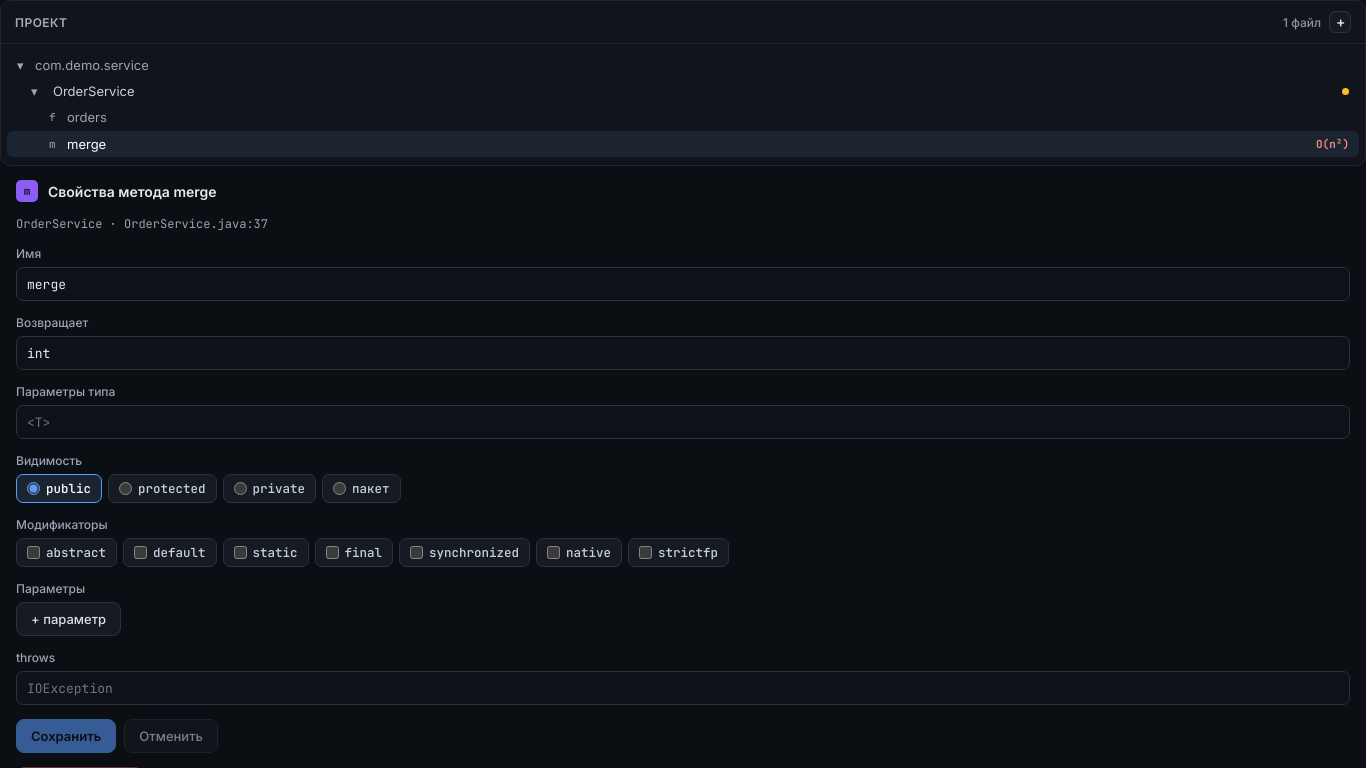
Test: формы структуры (FE-10) › 422 PARSE_ERROR — ошибка со строкой в форме, версия не меняется
This screenshot has width=1366, height=768.
Expected: the list with test id "project-tree" is shown, x1=7 y1=52 x2=1359 y2=157
Replace the text in the field labelled "Возвращает" with "long": (683, 353) x1=16 y1=336 x2=1350 y2=370
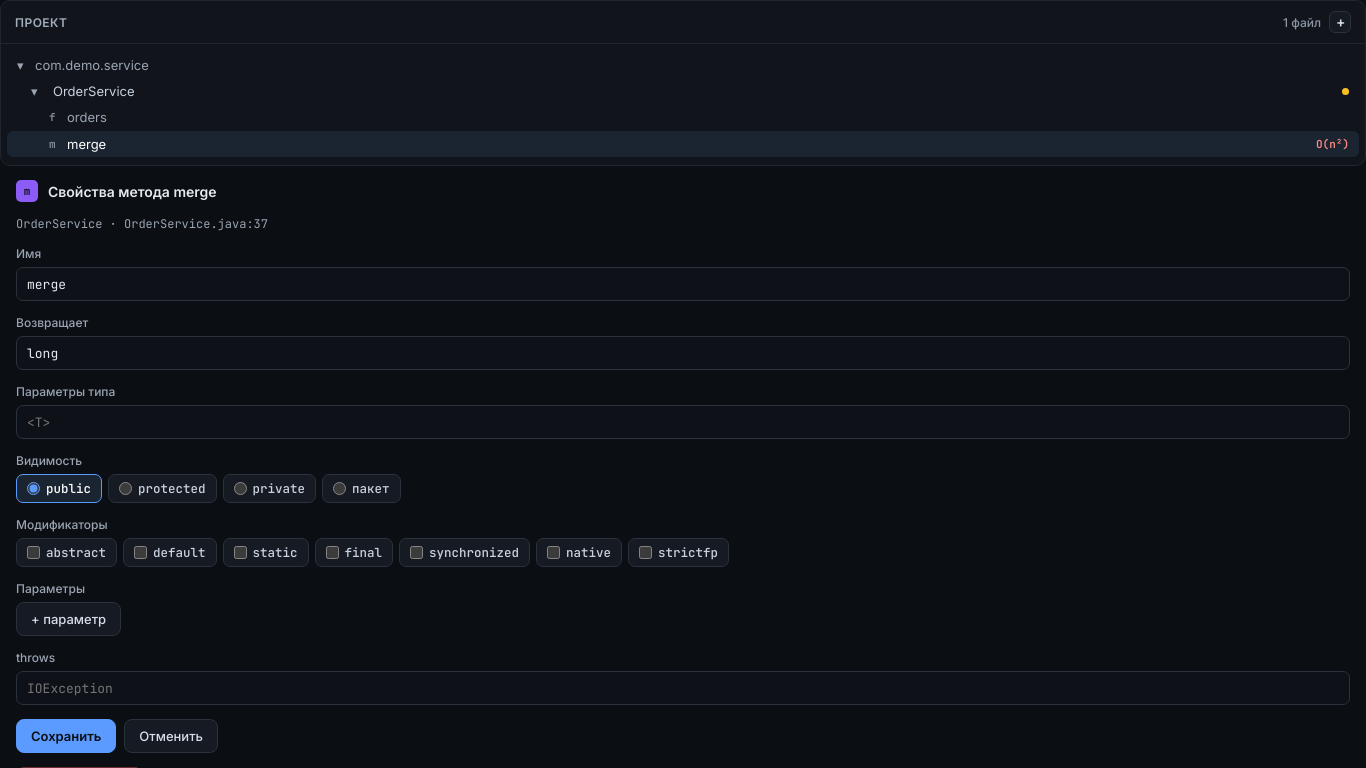
Click the button "Сохранить": (66, 736) x1=16 y1=719 x2=116 y2=753
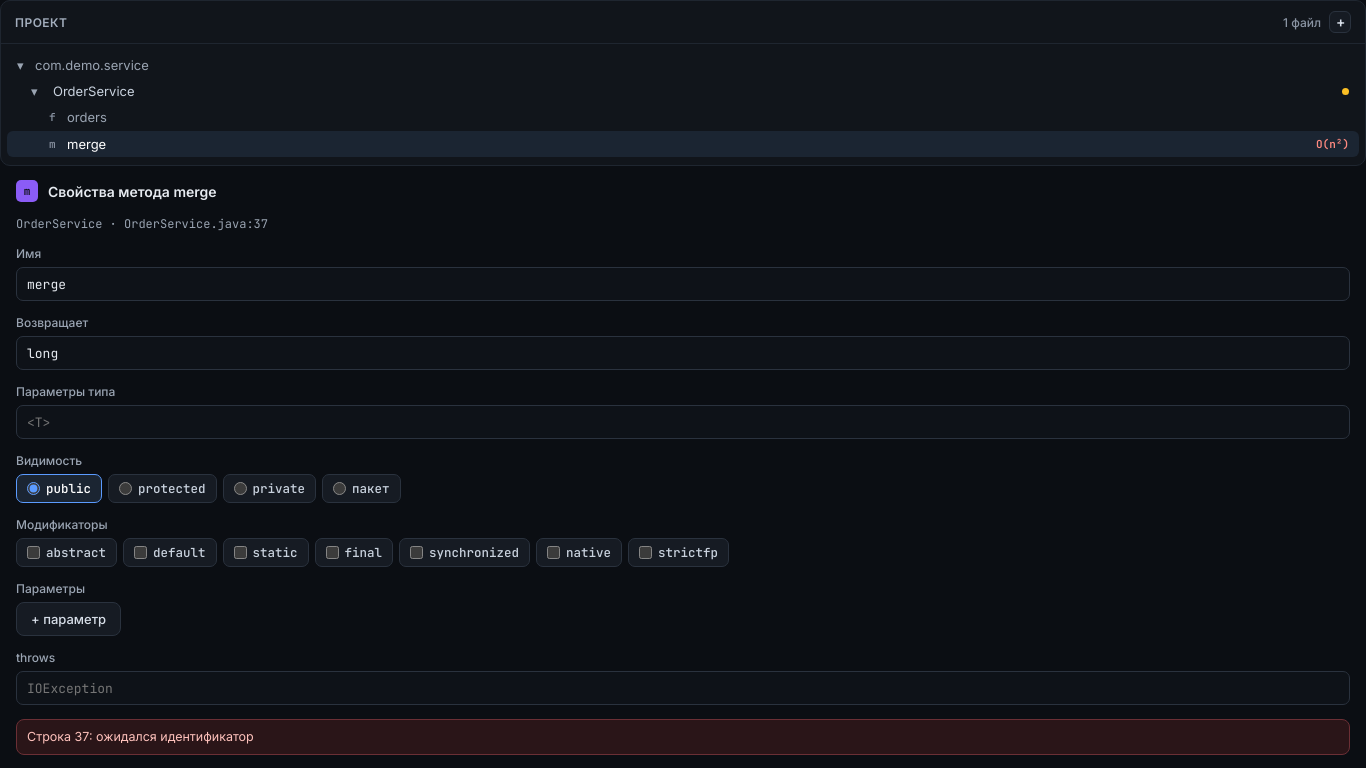
Expected: the message reads "Строка 37: ожидался идентификатор", x1=16 y1=719 x2=1350 y2=755
